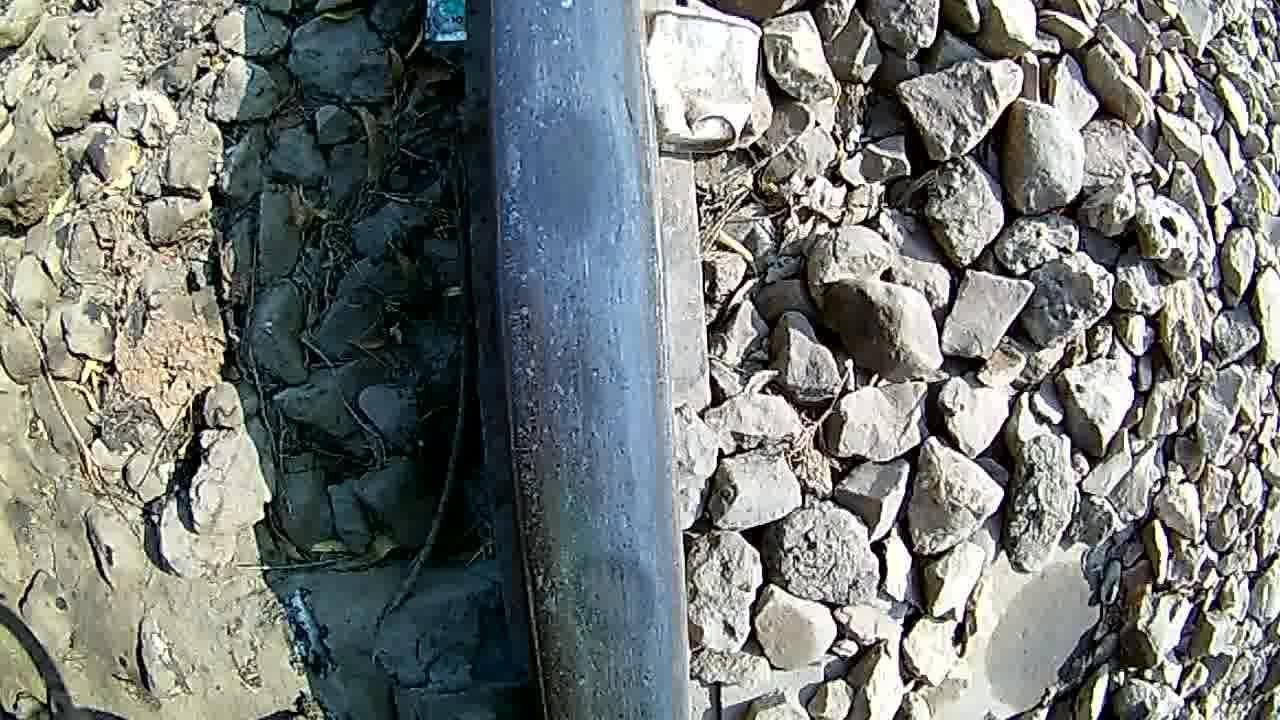crack: (482, 50, 660, 720)
